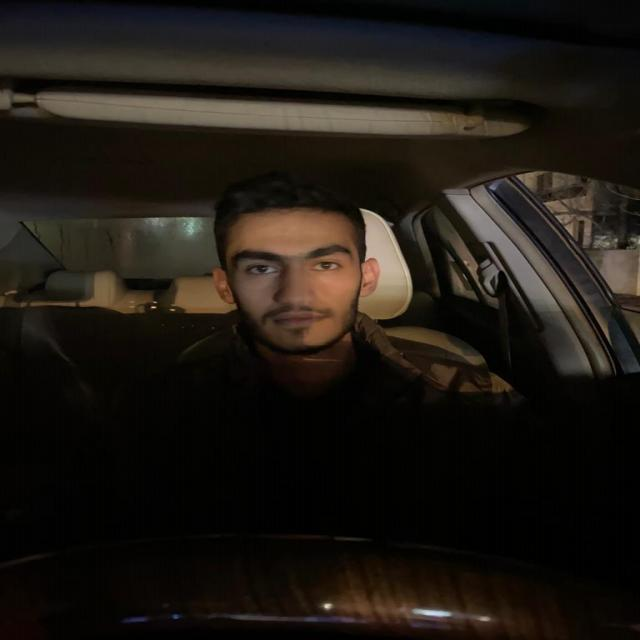person: (217, 188, 377, 353)
